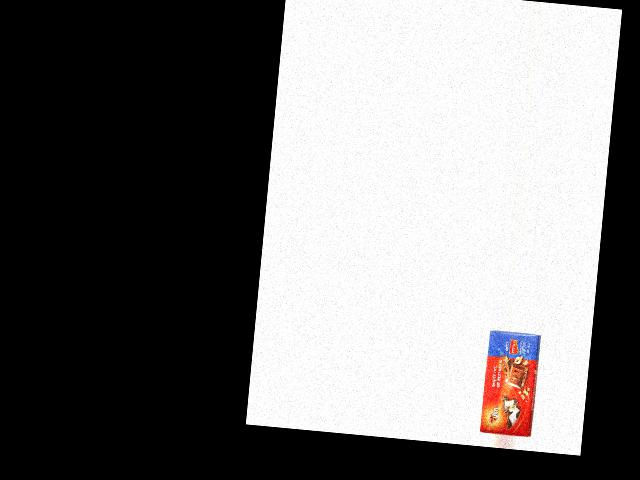chocolate: (480, 330, 540, 438)
